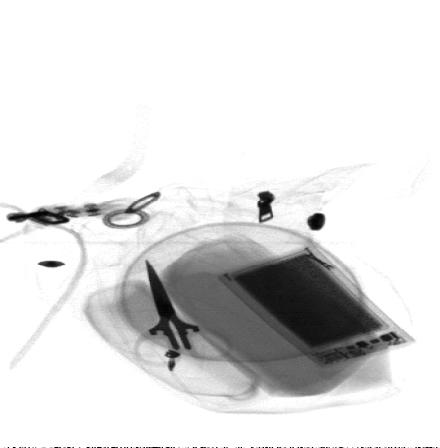Powerbank: (216, 240, 420, 371)
Scissors: (131, 257, 240, 370)
